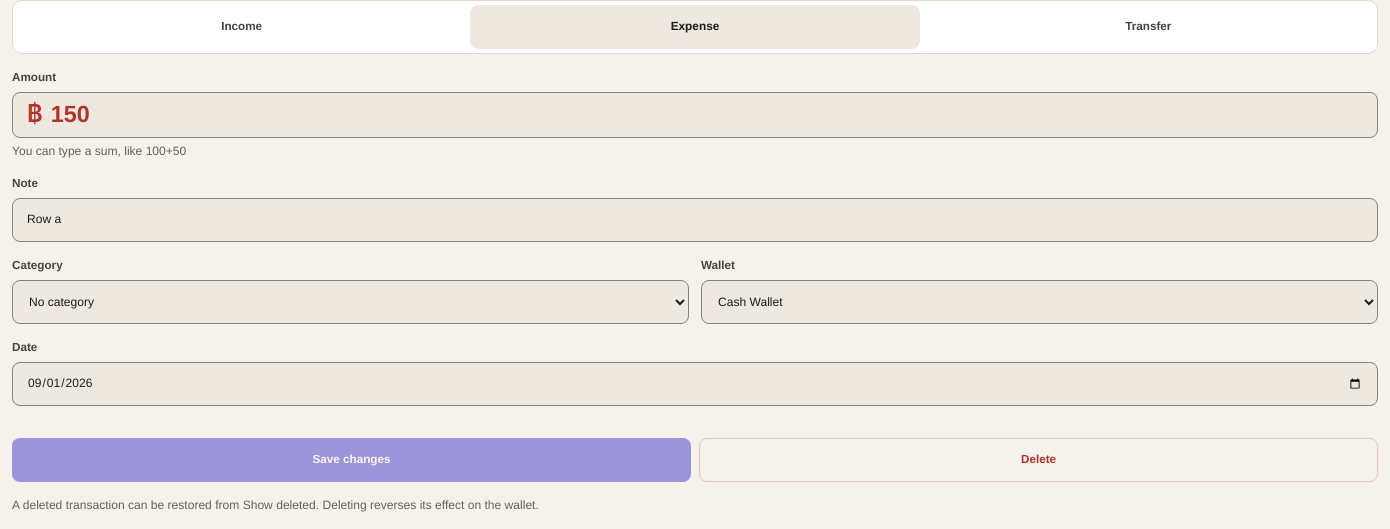
Test: a transaction's save that finishes after another row is open (ADR 0056) › says "Changes saved" on its own row
The width and height of the screenshot is (1390, 529).
Replace the text in the field with id "tx-edit-description" with "Edited A": (695, 220) [12,198,1378,242]
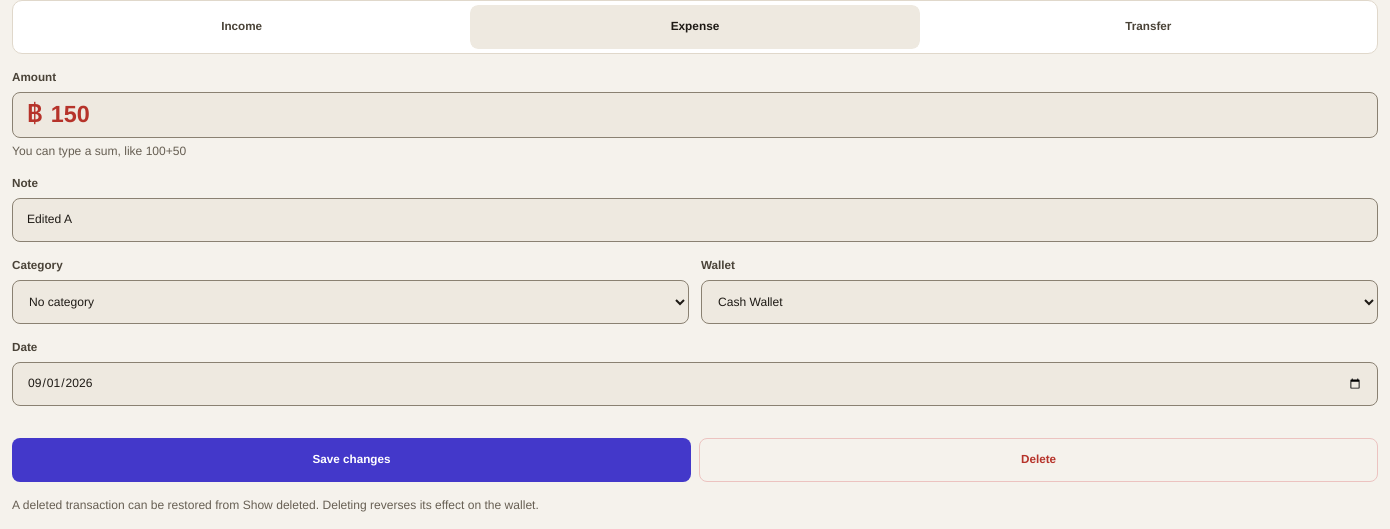
Click the button "Save changes": (352, 460) [12,438,691,482]
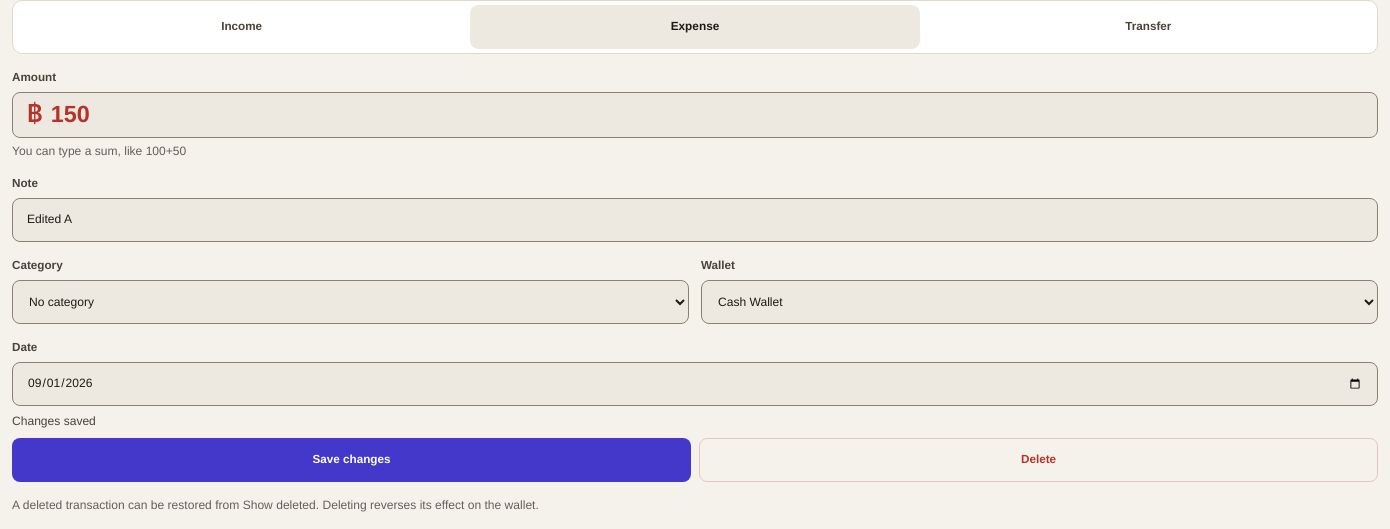
Expected: the message reads "Changes saved", [12,412,96,431]
